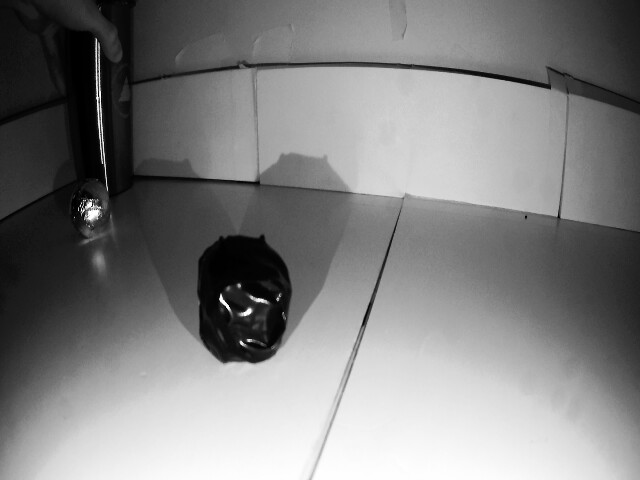black: (190, 232, 296, 378)
silver: (65, 182, 118, 245)
